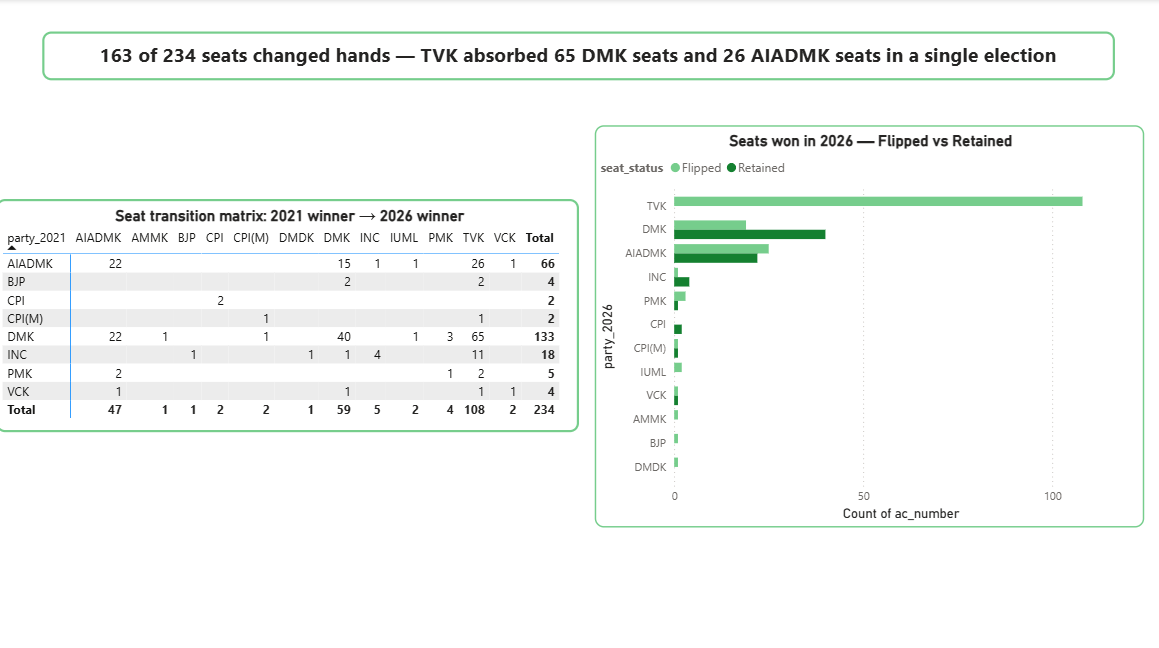

The page's visual inventory and layout, read from the dashboard file:
{"tool":"powerbi","page":{"name":"The Great Flip","canvas":[1280,720],"ordinal":1},"visuals":[{"type":"clusteredBarChart","title":"Seats won in 2026 — Flipped vs Retained","fields":{"Category":["tn_master.party_2026"],"Y":["Count(tn_master.ac_number)"],"Series":["tn_master.seat_status"]},"box":[657.1,138.6,602.9,441.4],"z":0},{"type":"pivotTable","title":"Seat transition matrix: 2021 winner → 2026 winner","fields":{"Rows":["tn_master.party_2021"],"Columns":["tn_master.party_2026"],"Values":["Count(tn_master.ac_number)"]},"box":[0,220,640,255.7],"z":1000},{"type":"textbox","box":[51.3,35.7,1177.4,53.5],"z":2000}]}

Visuals, with their boxes in screenshot pixels (x1, y1, x2, y2), scaled from the page's 1280x720 canvas onto the 1159x648 screenshot:
"Seats won in 2026 — Flipped vs Retained" clusteredBarChart: l=595, t=125, r=1141, b=522
"Seat transition matrix: 2021 winner → 2026 winner" pivotTable: l=0, t=198, r=580, b=428
textbox: l=46, t=32, r=1113, b=80
